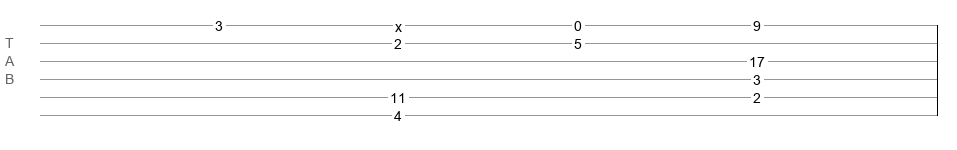0: (574, 18, 582, 28)
11: (390, 90, 406, 100)
17: (749, 54, 765, 64)
2: (394, 36, 402, 46), (753, 90, 761, 100)
3: (215, 18, 223, 28), (753, 72, 761, 82)
4: (394, 108, 402, 118)
5: (574, 36, 582, 46)
9: (753, 18, 761, 28)
x: (395, 19, 402, 27)
